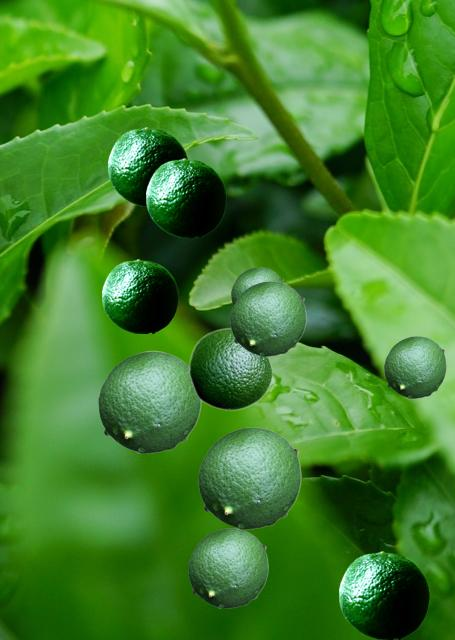calamansi: (198, 427, 300, 528), (98, 351, 200, 452), (339, 551, 428, 638), (188, 327, 272, 410), (188, 528, 267, 607), (108, 127, 187, 205), (146, 158, 225, 236), (230, 281, 305, 355), (102, 259, 177, 332), (384, 336, 445, 397), (231, 267, 283, 304)
